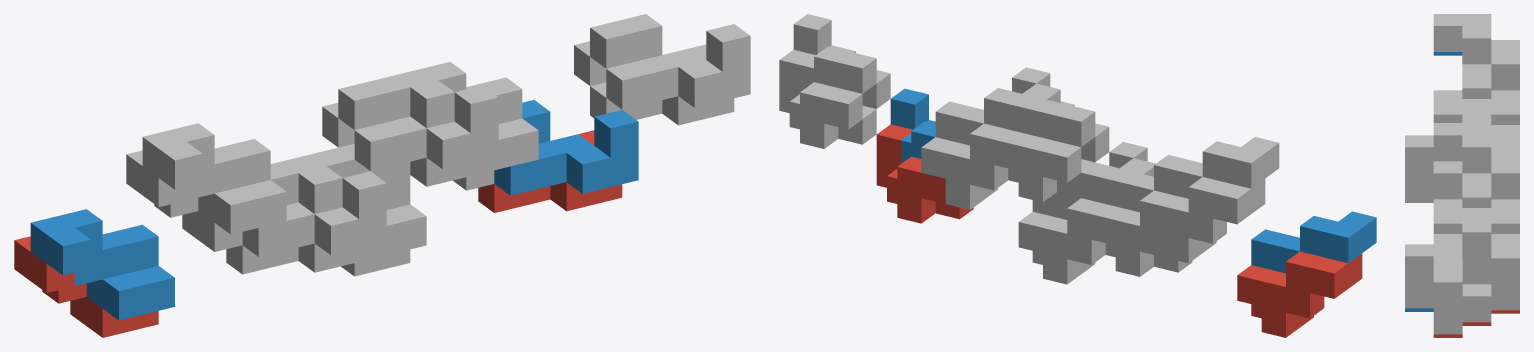
The model's file is tiling.obj.
3 renders of one model, left to right at view 1: azimuth 30°, elevation 25°; view 2: azimuth 150°, elevation 25°; view 3: azimuth 270°, elevation 25°, orthographic. The views are drawn at different scales.
Visible parts, largest first — view 1: copy_2_domain_8, copy_2_domain_4, copy_1_domain_2, copy_1_domain_4, copy_2_domain_6, copy_2_domain_2, copy_1_domain_8, copy_1_domain_6, copy_1_domain_1, copy_2_domain_7, copy_1_domain_3, copy_2_domain_3 (+3 smaller); view 2: copy_1_domain_1, copy_1_domain_3, copy_1_domain_5, copy_2_domain_7, copy_1_domain_7, copy_2_domain_8, copy_1_domain_4, copy_1_domain_2, copy_2_domain_5, copy_1_domain_8, copy_2_domain_3, copy_2_domain_4 (+4 smaller); view 3: copy_2_domain_7, copy_2_domain_8, copy_1_domain_8, copy_1_domain_4, copy_2_domain_4, copy_1_domain_3, copy_1_domain_7, copy_2_domain_3, copy_2_domain_5, copy_1_domain_2, copy_2_domain_2, copy_2_domain_6.
Part boxes in pixels (x1=…): copy_2_domain_8: x1=590, y1=14, x2=750, y2=109; copy_2_domain_4: x1=338, y1=75, x2=498, y2=170; copy_1_domain_2: x1=30, y1=209, x2=174, y2=320; copy_1_domain_4: x1=142, y1=123, x2=286, y2=234; copy_2_domain_6: x1=494, y1=100, x2=638, y2=195; copy_2_domain_2: x1=242, y1=161, x2=386, y2=256; copy_1_domain_8: x1=394, y1=62, x2=538, y2=172; copy_1_domain_6: x1=283, y1=147, x2=426, y2=258; copy_1_domain_1: x1=14, y1=236, x2=158, y2=337; copy_2_domain_7: x1=574, y1=41, x2=734, y2=125; copy_1_domain_3: x1=126, y1=150, x2=242, y2=251; copy_2_domain_3: x1=322, y1=102, x2=482, y2=186; copy_1_domain_1: x1=1237, y1=251, x2=1362, y2=337; copy_1_domain_3: x1=1140, y1=177, x2=1265, y2=263; copy_1_domain_5: x1=1018, y1=198, x2=1129, y2=284; copy_2_domain_7: x1=779, y1=49, x2=876, y2=148; copy_1_domain_7: x1=921, y1=123, x2=1032, y2=209; copy_2_domain_8: x1=793, y1=14, x2=890, y2=108; copy_1_domain_4: x1=1154, y1=137, x2=1279, y2=198; copy_1_domain_2: x1=1251, y1=211, x2=1376, y2=273; copy_2_domain_5: x1=876, y1=124, x2=973, y2=223; copy_1_domain_8: x1=935, y1=83, x2=1060, y2=145; copy_2_domain_3: x1=1008, y1=135, x2=1094, y2=202; copy_2_domain_4: x1=1012, y1=67, x2=1109, y2=162; copy_2_domain_7: x1=1433, y1=234, x2=1519, y2=334; copy_2_domain_8: x1=1405, y1=208, x2=1491, y2=308; copy_1_domain_8: x1=1433, y1=123, x2=1491, y2=233; copy_1_domain_4: x1=1433, y1=14, x2=1491, y2=122; copy_2_domain_4: x1=1405, y1=99, x2=1491, y2=199; copy_1_domain_3: x1=1491, y1=40, x2=1519, y2=124; copy_1_domain_7: x1=1491, y1=149, x2=1519, y2=233; copy_2_domain_3: x1=1433, y1=125, x2=1519, y2=199; copy_2_domain_5: x1=1433, y1=310, x2=1519, y2=337; copy_1_domain_2: x1=1433, y1=52, x2=1462, y2=55; copy_2_domain_2: x1=1405, y1=199, x2=1433, y2=202; copy_2_domain_6: x1=1405, y1=308, x2=1433, y2=311.
Size of the model in its own units: 24 by 6 by 4.
